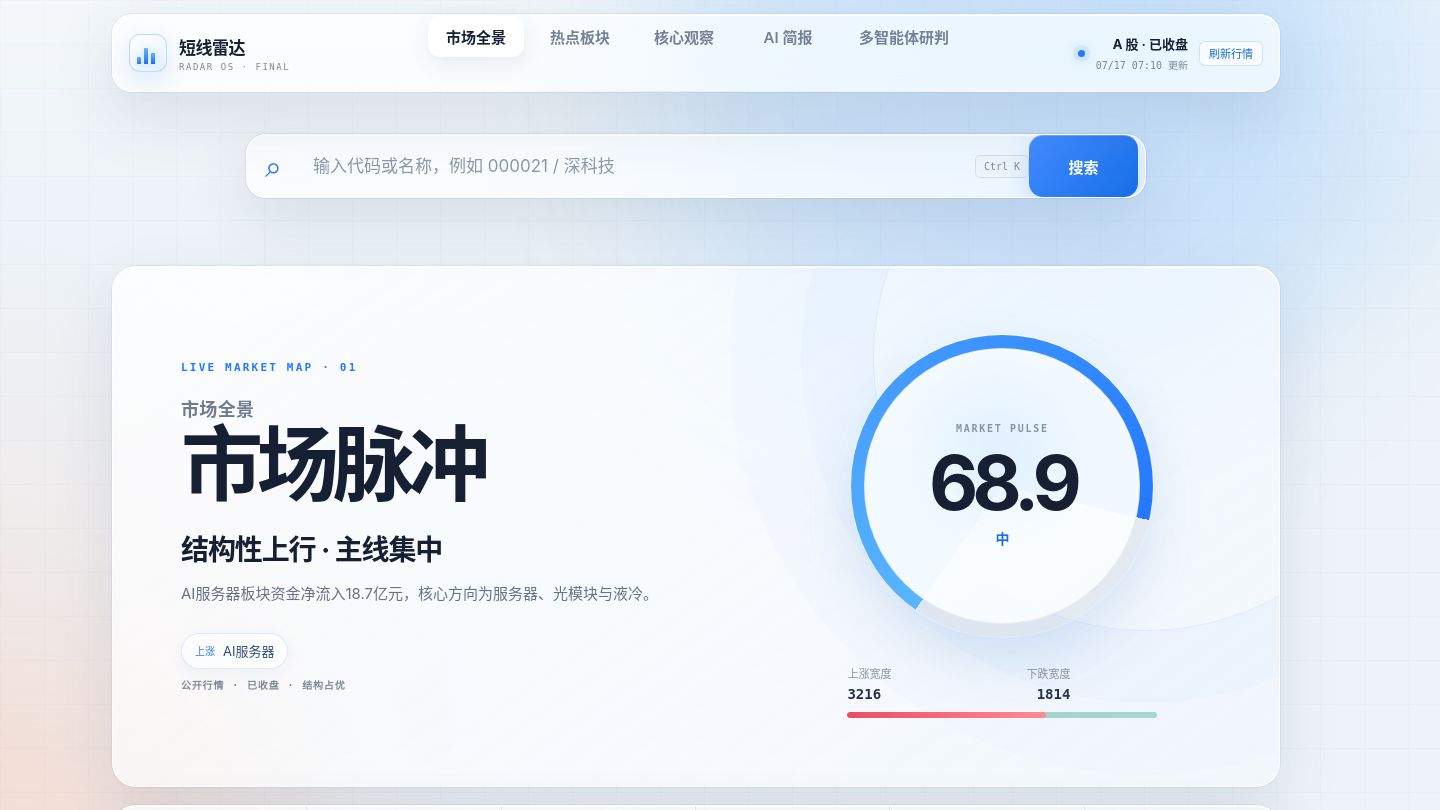
Test case: Dashboard › focuses search with Ctrl+K and closes results with Escape
Type keys "{Control>}k{/Control}"
Type "深科技" into the search field at (637, 166), box [299,156,975,176]
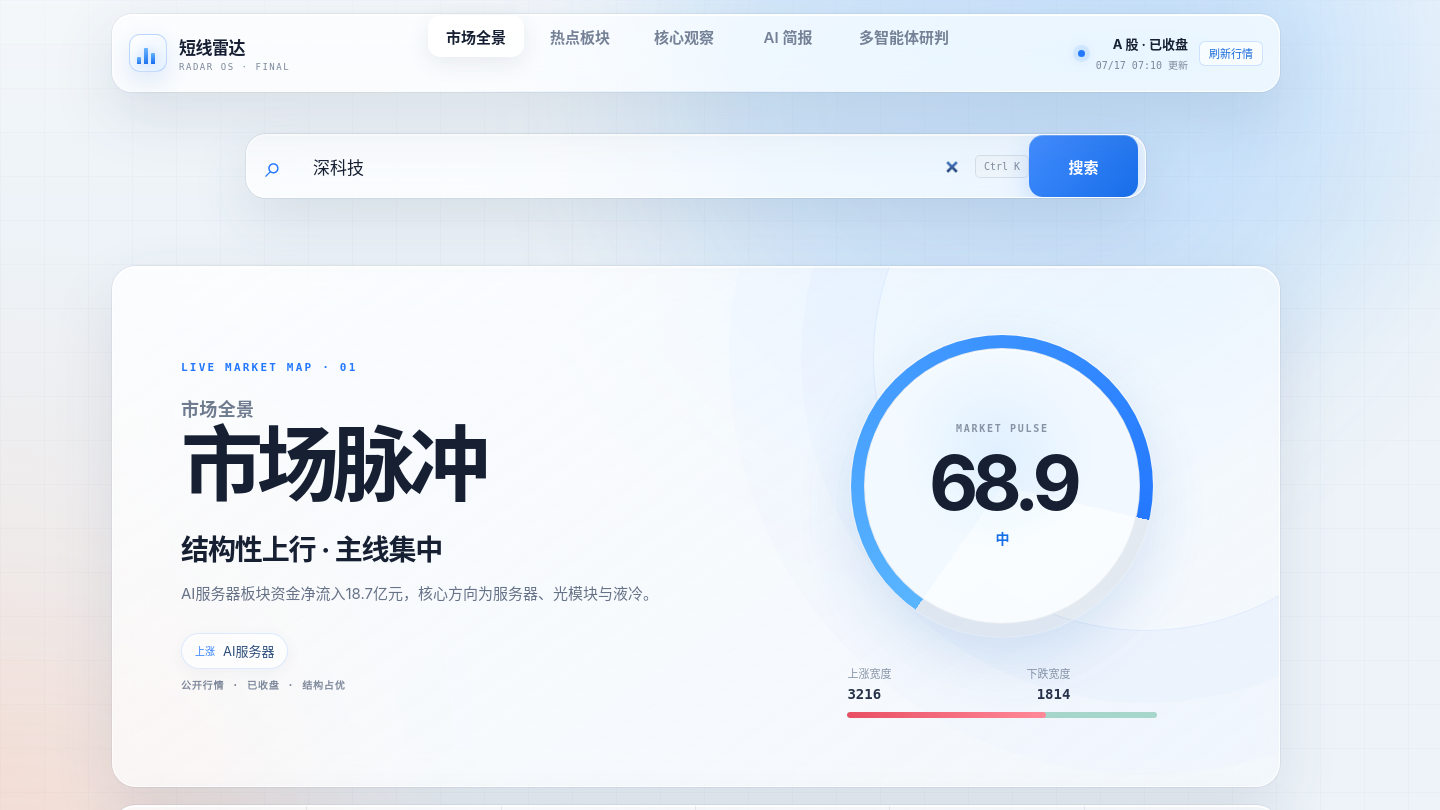
Click the button "搜索" at (1084, 166), box [1029,135,1138,197]
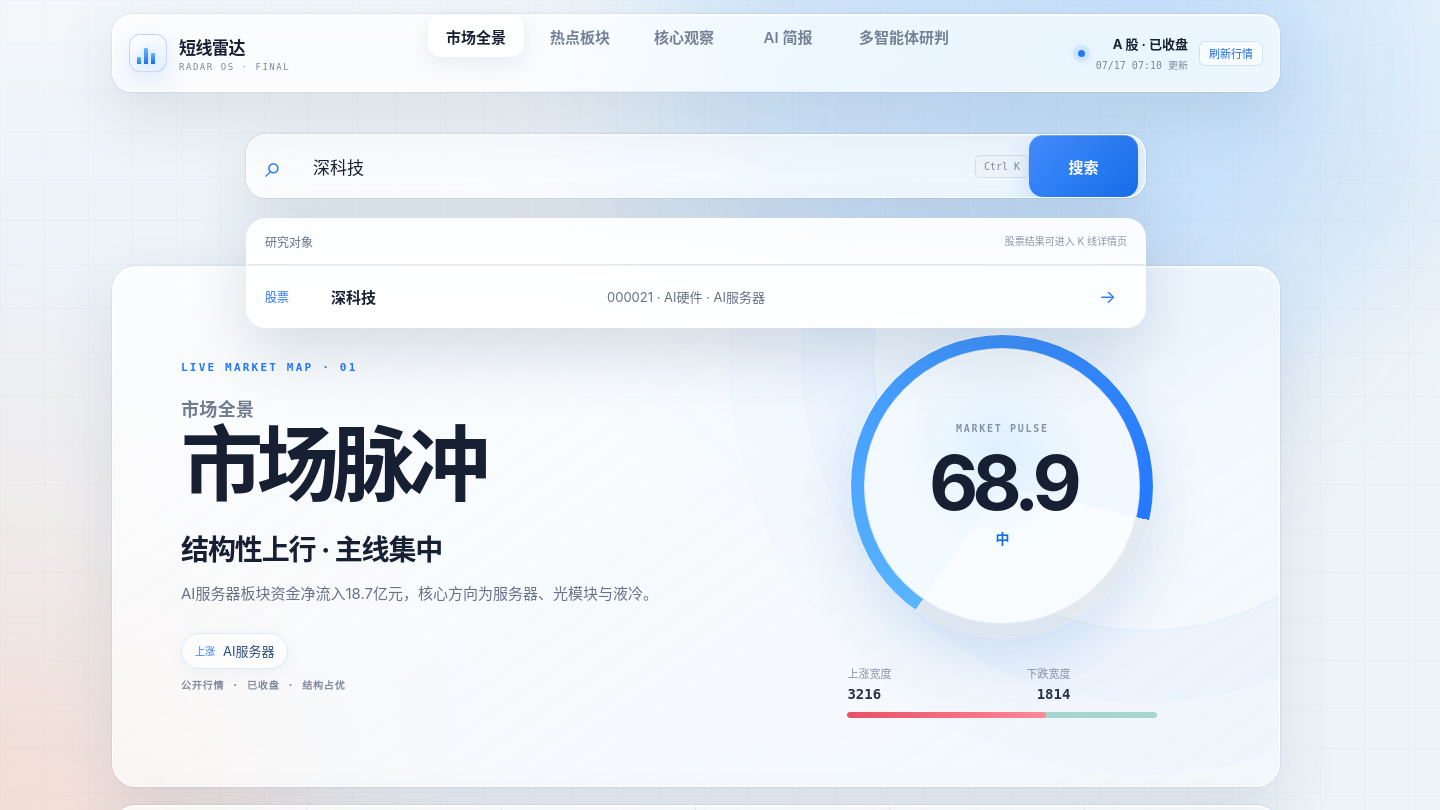
Now the text "000021 · AI硬件 · AI服务器" is shown, box [607,289,765,305]
Press Escape
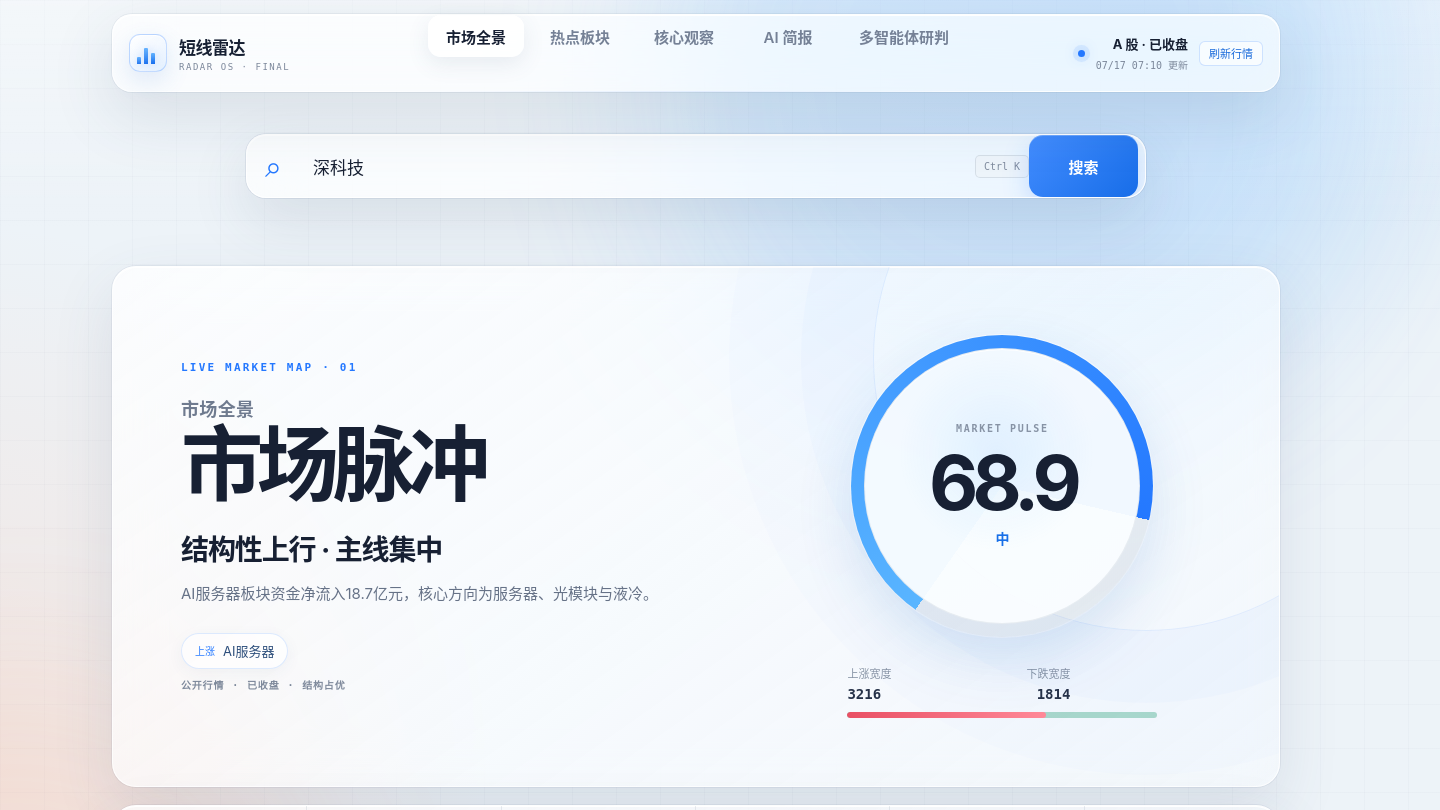
Now the link "000021 · AI硬件 · AI服务器" is gone
